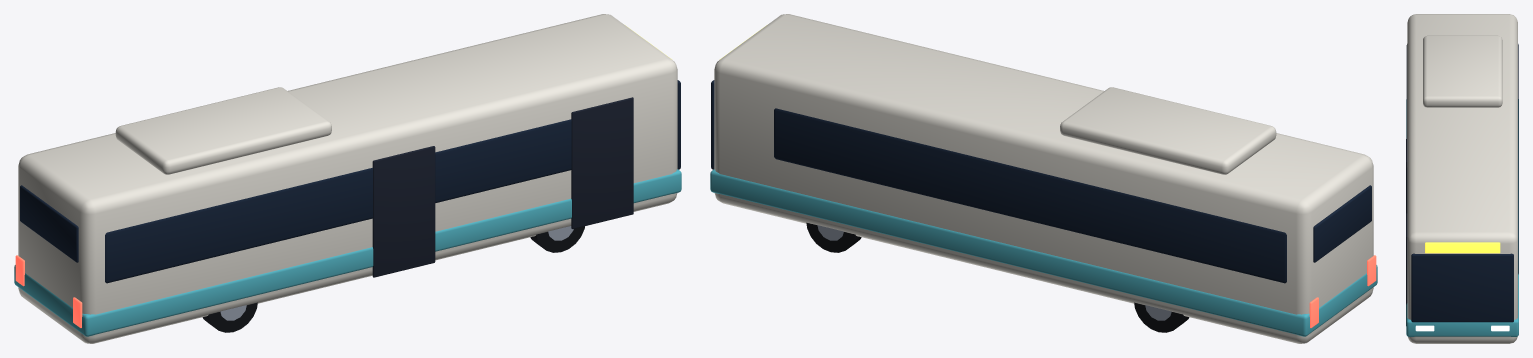
The model's file is bus.glb.
3 views of the same model, side by side, from view 1: azimuth 30°, elevation 25°; view 2: azimuth 150°, elevation 25°; view 3: azimuth 270°, elevation 25° (orthographic). The views are drawn at different scales.
Parts seen in each view (by area): view 1: bus; view 2: bus; view 3: bus.
Part boxes in pixels (box(x1,y1,x2,y2)): bus: box(14, 14, 681, 343); bus: box(710, 14, 1377, 343); bus: box(1406, 14, 1518, 343).
Bounding box in the file's own units: 12.11 × 3.41 × 2.55.
